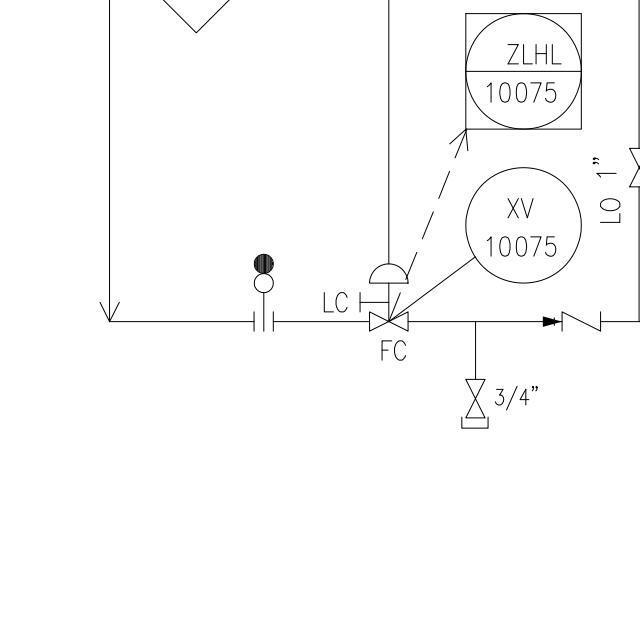EC: (456, 349, 493, 433)
FC: (365, 257, 412, 338)
GV: (464, 372, 486, 424)
